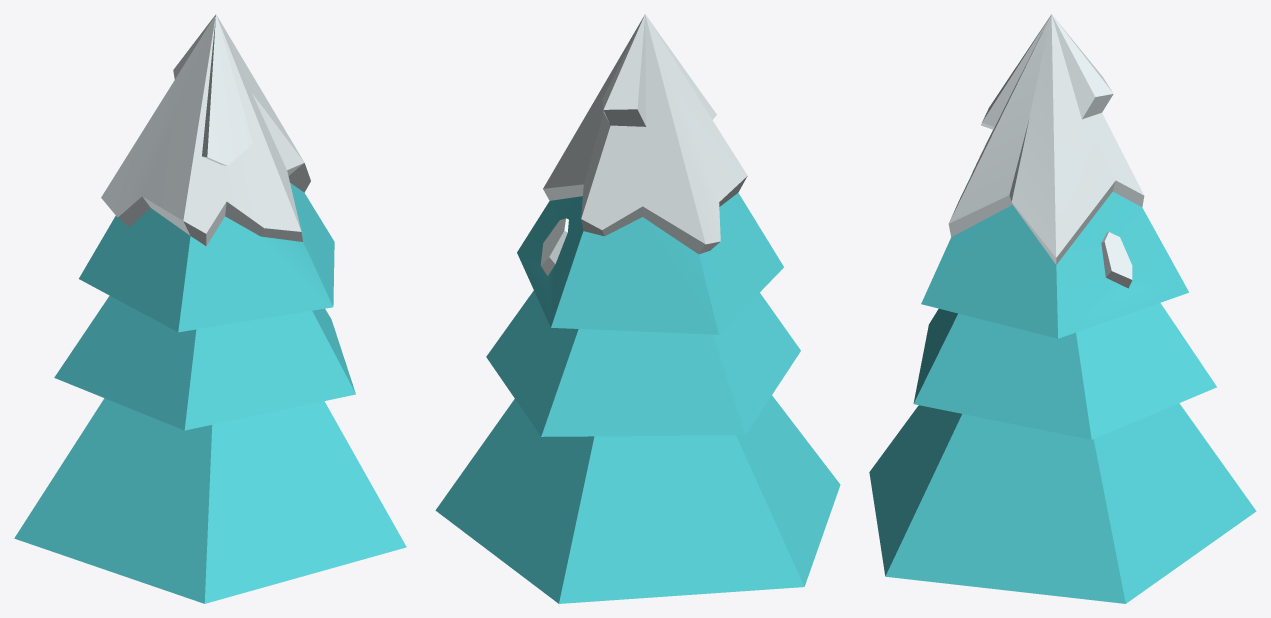
The model's file is arbre_1.fbx.
3 views of the same model, side by side, from view 1: azimuth 30°, elevation 25°; view 2: azimuth 150°, elevation 25°; view 3: azimuth 270°, elevation 25° (orthographic). The views are drawn at different scales.
Visible parts, largest first — view 1: pCone3, pCube3, pCone2; view 2: pCone3, pCube3, pCone2; view 3: pCone3, pCube3, pCone2.
Boxes of the visible parts, x1,y1,x2,y2 form: pCone3: (14,398,406,603); pCube3: (79,14,334,332); pCone2: (54,295,355,430); pCone3: (435,395,840,603); pCube3: (517,14,783,334); pCone2: (486,290,800,436); pCone3: (869,403,1256,603); pCube3: (921,14,1189,338); pCone2: (913,303,1216,439).
Size of the model in its own units: 2.74 by 4.07 by 2.61.
